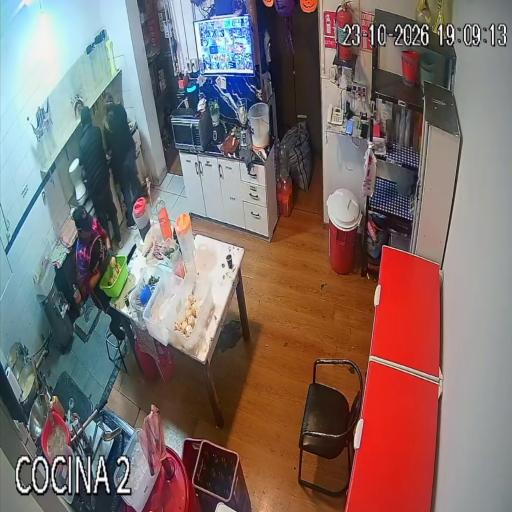Envase Llajua: (51, 395, 64, 418)
Jarra1: (133, 197, 150, 238)
Jarra2: (175, 213, 195, 265)
Microondas: (171, 109, 211, 152)
Persona1: (79, 107, 121, 239)
Persona2: (73, 206, 125, 342)
Persona3: (104, 95, 143, 226)
Taper2: (128, 266, 170, 328)
Taper3: (143, 273, 182, 344)
Taper4: (163, 273, 214, 359)
